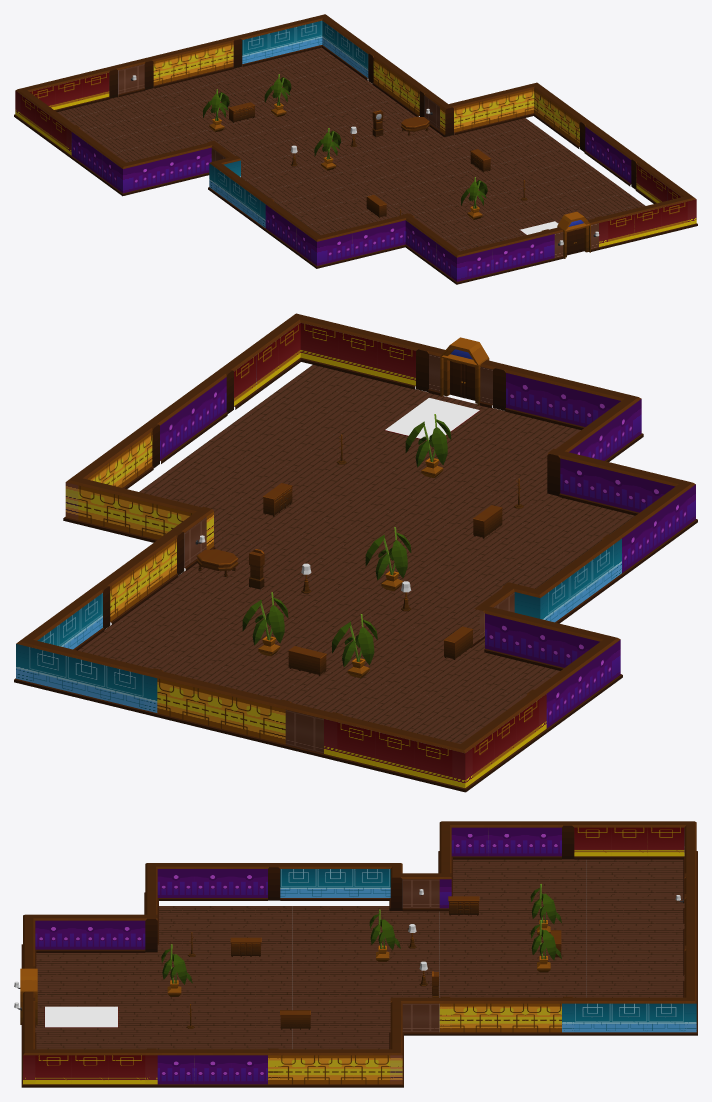
Rendered from Stage 3 (1).fbx.
The picture shows the model from 3 angles, top to bottom: view 1: azimuth 30°, elevation 25°; view 2: azimuth 150°, elevation 25°; view 3: azimuth 270°, elevation 25°; orthographic projection. The views are drawn at different scales.
Parts seen in each view (by area): view 1: Final_Stage3; view 2: Final_Stage3; view 3: Final_Stage3.
Part boxes in pixels (x1,y1,x2,y2): Final_Stage3: [14, 14, 697, 284]; Final_Stage3: [14, 313, 697, 792]; Final_Stage3: [14, 821, 697, 1087].
Size of the model in its own units: 4520 by 449 by 5583.
